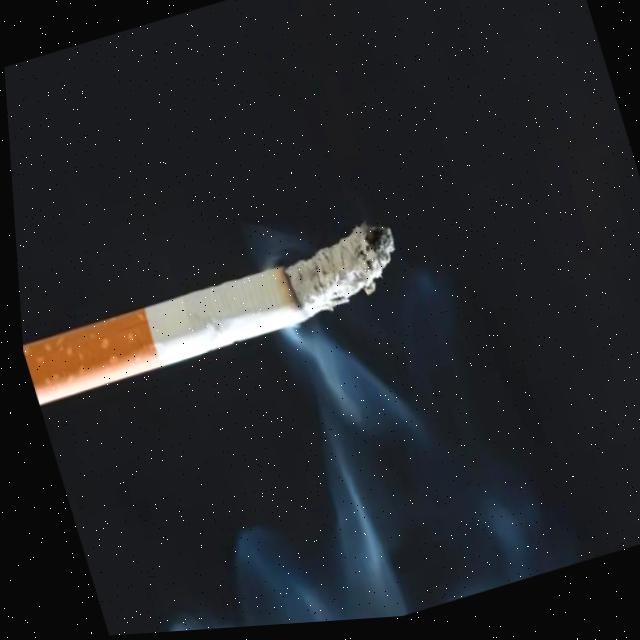cigarette: (23, 222, 392, 404)
